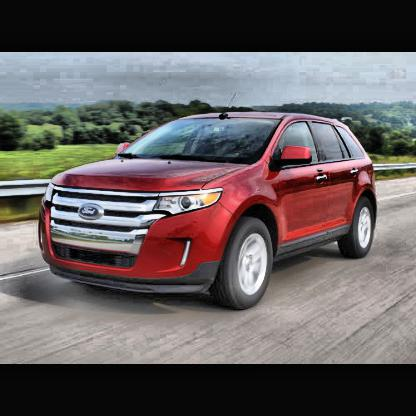Ford Edge SUV 2012: (38, 93, 380, 314)
